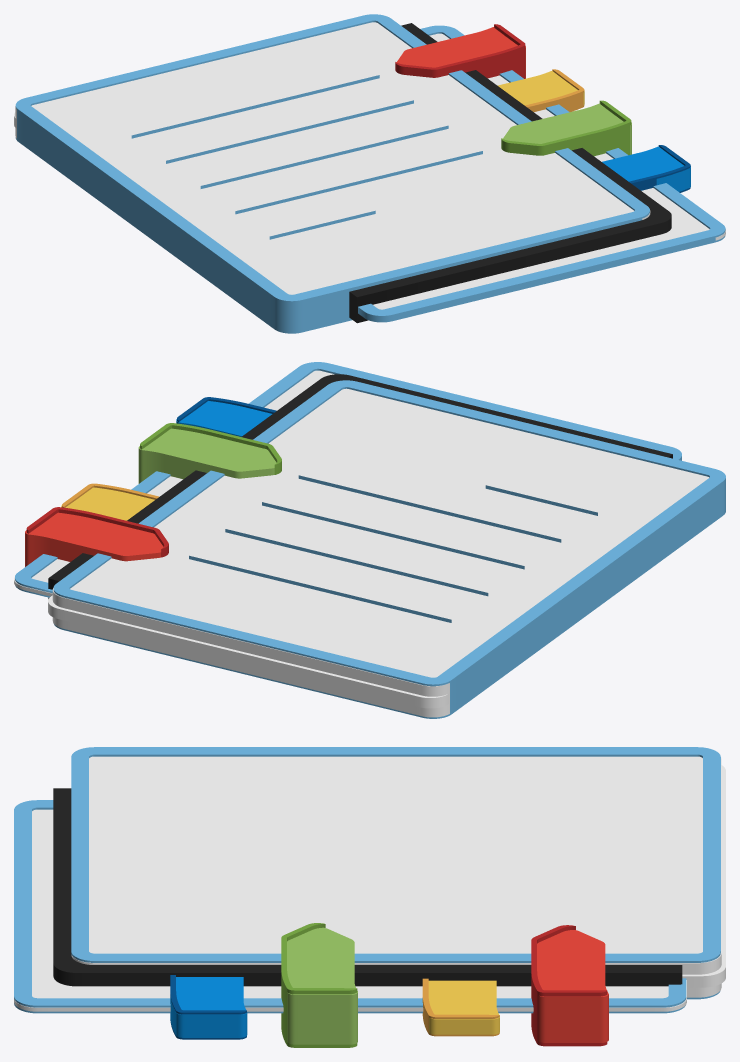
File: emoji_u1f4d1.glb
The picture shows the model from 3 angles, top to bottom: view 1: azimuth 30°, elevation 25°; view 2: azimuth 150°, elevation 25°; view 3: azimuth 270°, elevation 25°; orthographic projection. The views are drawn at different scales.
Parts seen in each view (by area): view 1: emoji_u1f4d1; view 2: emoji_u1f4d1; view 3: emoji_u1f4d1.
Part boxes in pixels (x1,y1,x2,y2): emoji_u1f4d1: (14, 14, 725, 333); emoji_u1f4d1: (14, 362, 725, 718); emoji_u1f4d1: (14, 747, 725, 1047).
Bounding box in the file's own units: 0.0293 × 0.003 × 0.0338.
